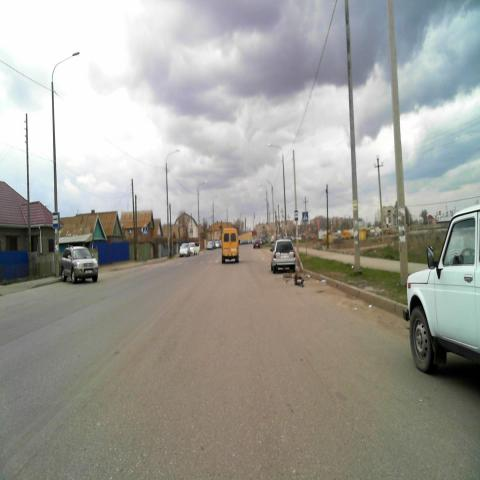5_16: (52, 212, 60, 228), (294, 210, 298, 220)
5_19_1: (302, 212, 308, 222), (143, 226, 147, 235)
